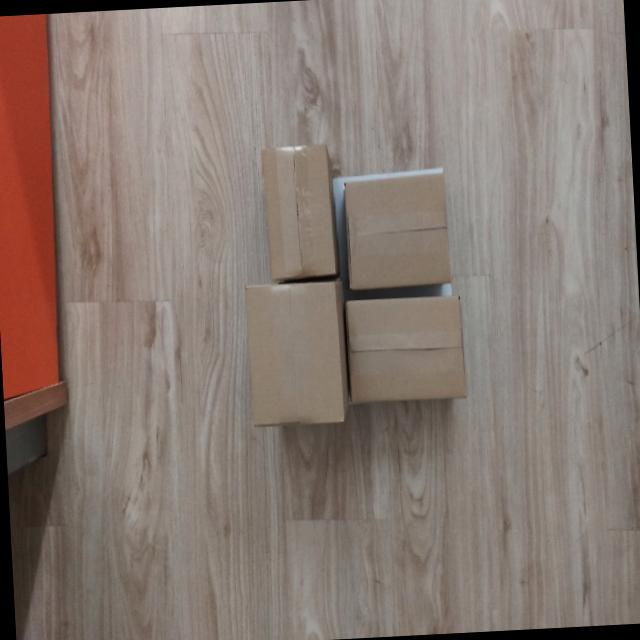box: (237, 274, 350, 430), (343, 290, 474, 410), (339, 169, 460, 291), (254, 140, 344, 282)
